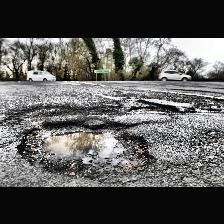pothole: (16, 118, 152, 178), (128, 98, 178, 114)
